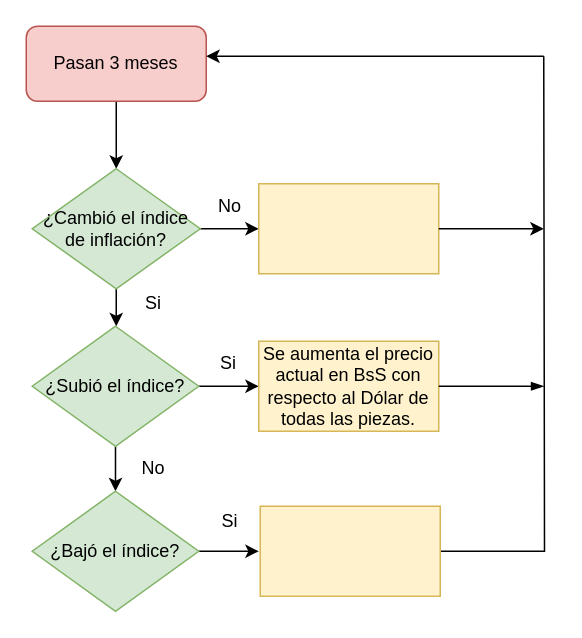
Some shapes in this 582 by 638 pixel diagram are drawn without their labels. The centre of each missing label's shape, as x and y in pixels:
Los precios no cambian.: the point at 348,228
Se baja el precio actual en BsS con respecto al Dólar de todas las piezas: the point at 349,550
